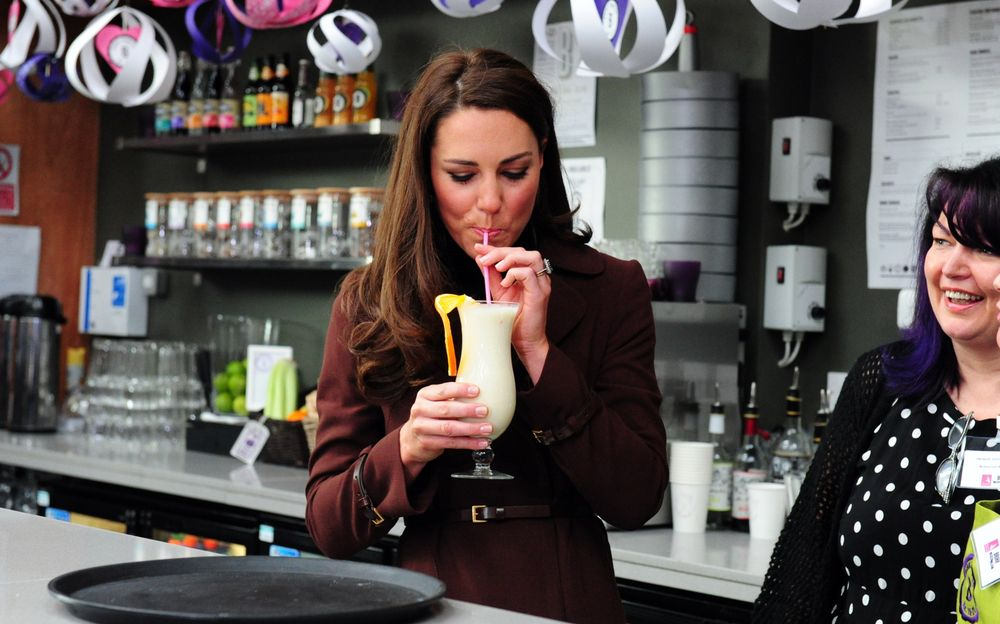drinking: (295, 36, 717, 506)
